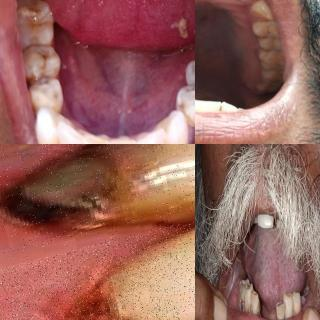Gum Swelling: (0, 213, 182, 320)
calculus: (246, 297, 252, 315), (241, 298, 245, 313), (281, 311, 286, 320), (276, 314, 278, 320)
cavities: (0, 144, 156, 244), (35, 262, 180, 320), (31, 67, 55, 92)
plaque: (180, 112, 195, 142), (163, 138, 185, 144)
stains: (254, 48, 274, 64), (250, 18, 272, 32), (246, 0, 264, 16), (252, 31, 272, 45)
